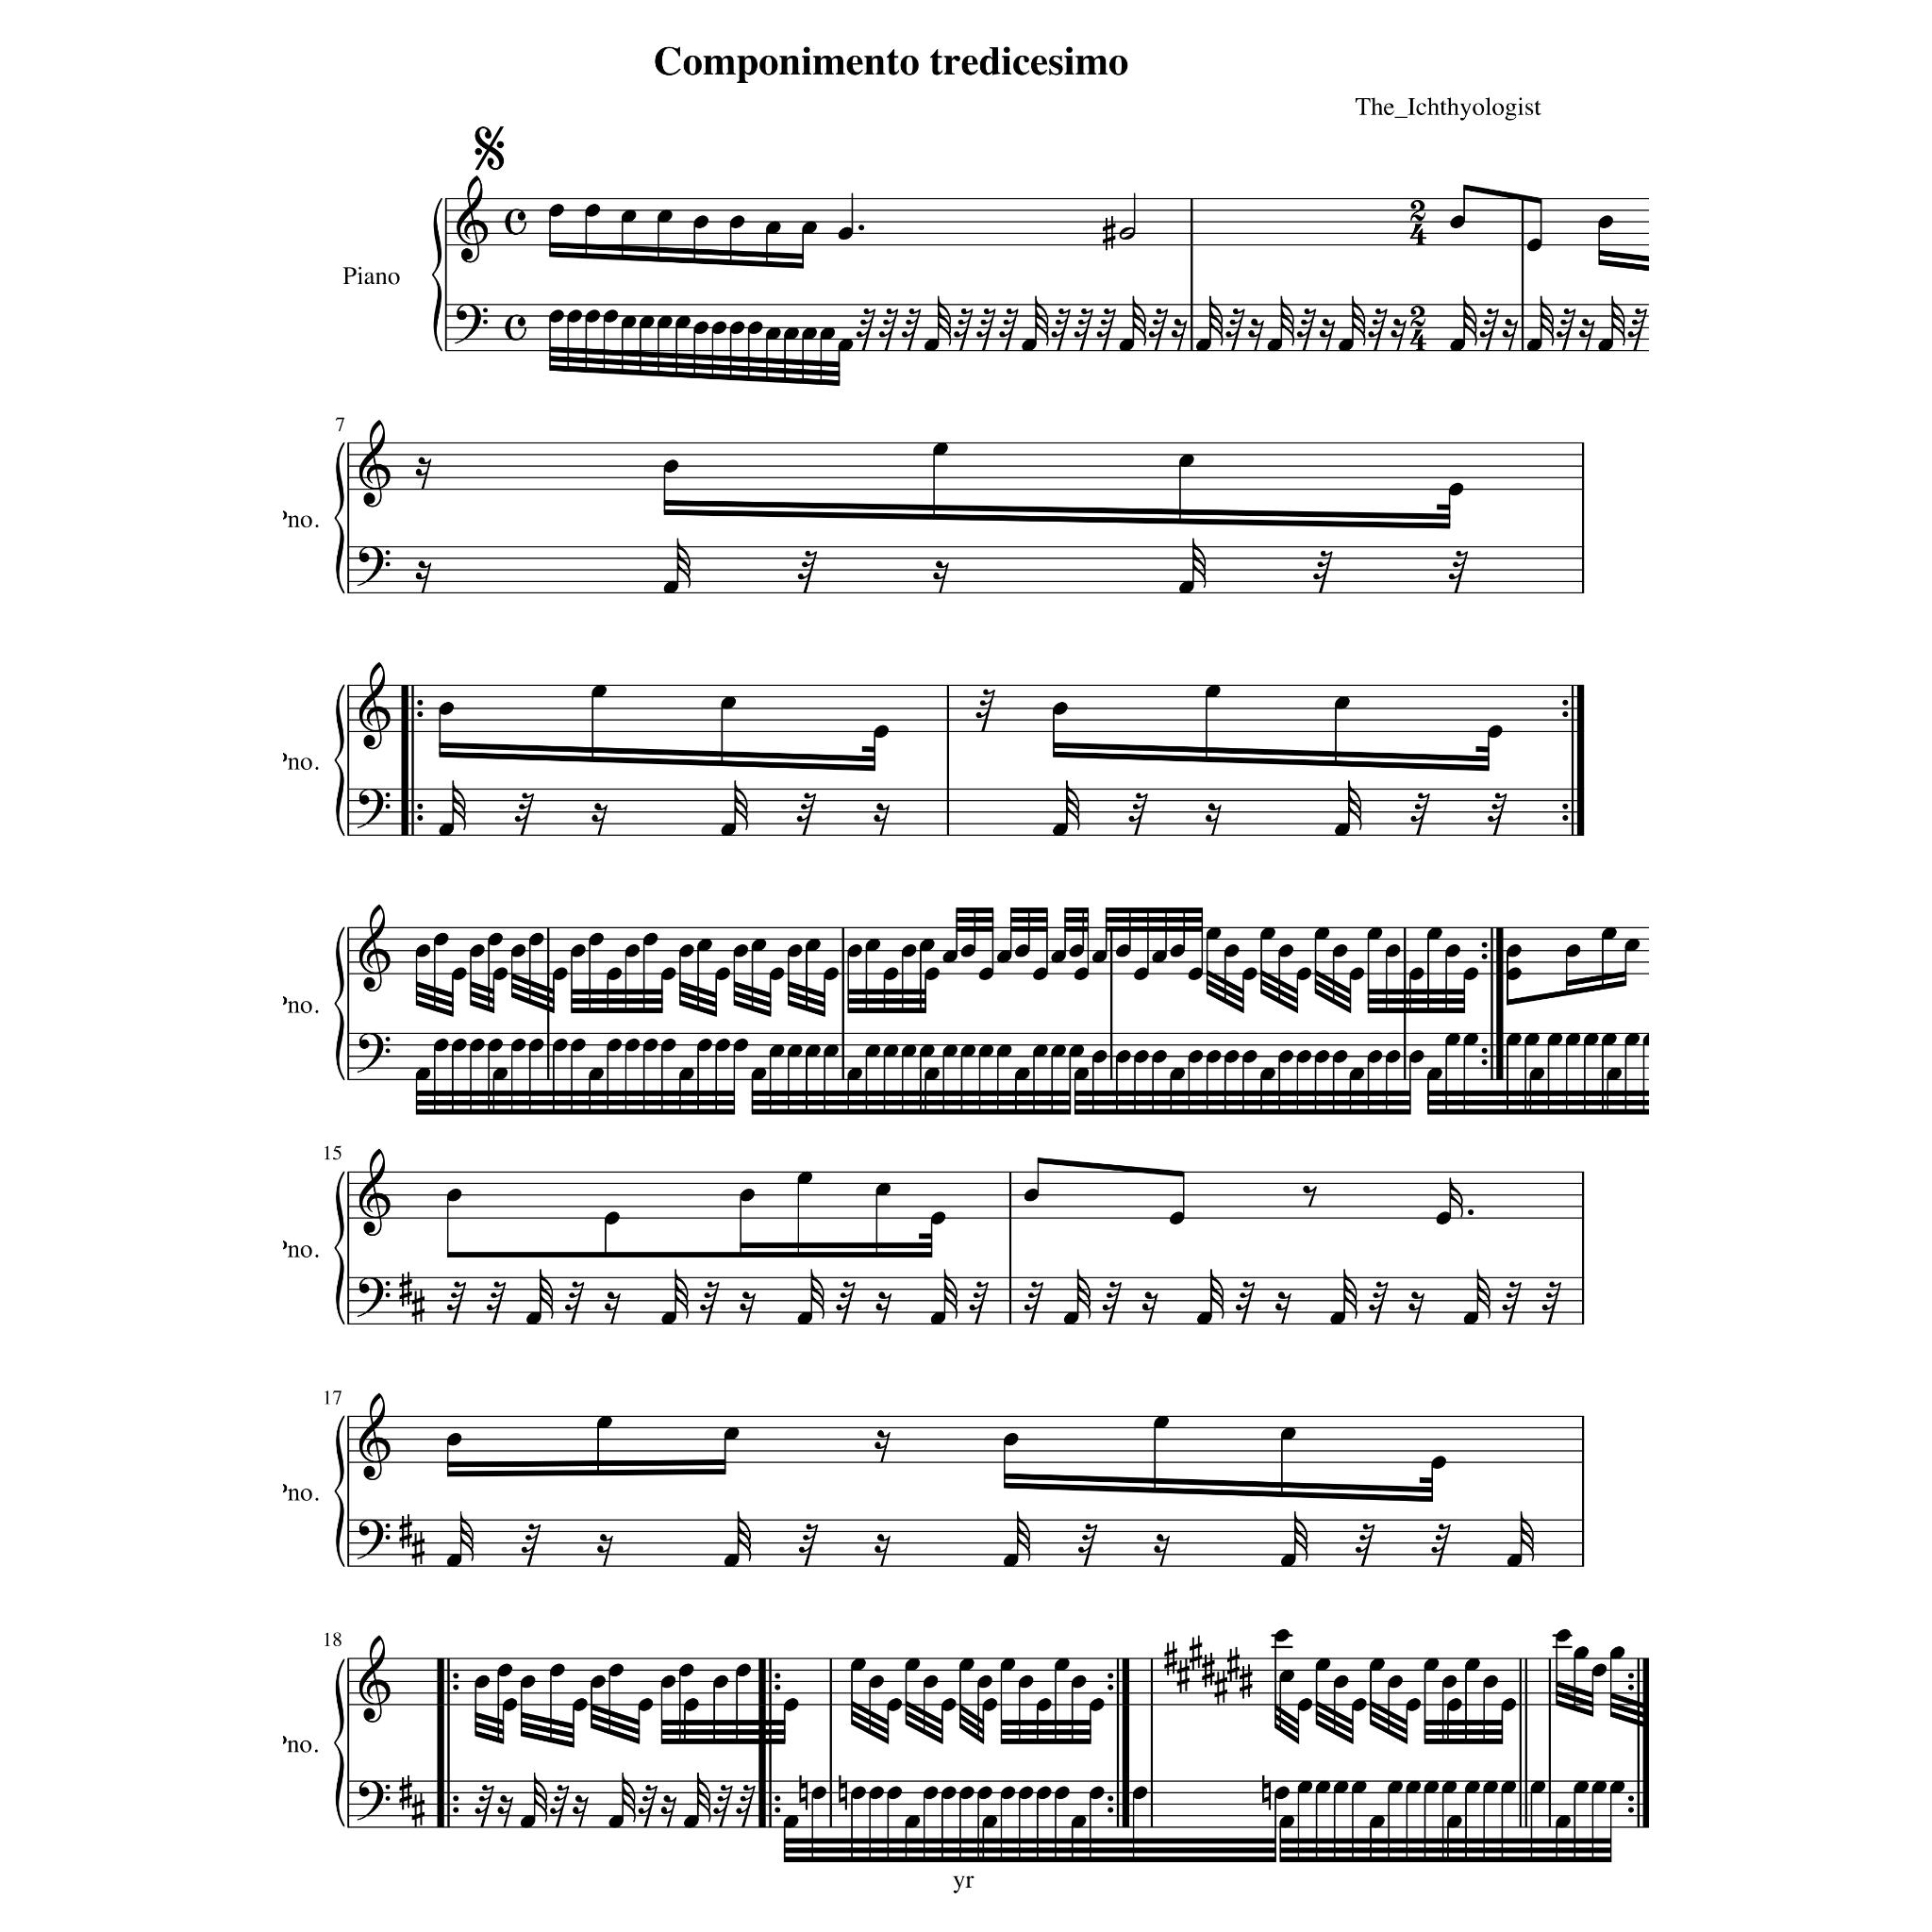brace: (333, 1660, 345, 1828), (333, 927, 345, 1081), (333, 1171, 345, 1325), (333, 442, 345, 594), (333, 685, 345, 837), (333, 1415, 345, 1568), (432, 198, 442, 352)
fClef: (453, 304, 488, 345), (357, 547, 391, 587), (357, 787, 391, 828), (357, 1033, 391, 1074), (357, 1277, 391, 1318), (357, 1520, 391, 1560), (357, 1780, 391, 1821)
flag16thUp: (1449, 1178, 1463, 1219)
gClef: (456, 175, 488, 264), (359, 419, 391, 508), (359, 662, 391, 750), (359, 904, 391, 993), (359, 1148, 391, 1237), (359, 1392, 391, 1481), (359, 1635, 391, 1723)
noteheadBlack: (1525, 338, 1543, 352), (1313, 1049, 1330, 1063), (1313, 927, 1330, 941), (1582, 1033, 1599, 1047), (587, 932, 605, 947), (432, 1039, 449, 1053), (432, 932, 449, 947), (901, 1044, 918, 1058), (929, 1311, 947, 1325), (929, 1212, 947, 1226), (801, 221, 817, 235), (766, 221, 782, 235), (924, 338, 939, 352), (1021, 338, 1037, 352), (837, 338, 853, 352), (584, 203, 600, 218), (548, 203, 564, 218), (676, 315, 692, 329), (621, 315, 637, 329), (639, 315, 655, 329), (656, 315, 672, 329), (1267, 338, 1283, 352), (1338, 338, 1353, 352), (1598, 338, 1614, 352), (1194, 338, 1210, 352), (1118, 338, 1134, 352), (932, 442, 948, 456), (1178, 580, 1194, 594), (1178, 453, 1194, 467), (663, 580, 679, 594), (1205, 685, 1221, 699), (1051, 823, 1067, 837), (1334, 823, 1350, 837), (439, 823, 455, 837), (591, 685, 607, 699), (720, 823, 736, 837), (1426, 927, 1442, 941), (1385, 1049, 1401, 1063), (1366, 1049, 1382, 1063), (1366, 927, 1382, 941), (1408, 1049, 1424, 1063), (1408, 968, 1424, 982), (1445, 1033, 1461, 1047), (1134, 968, 1150, 982), (1523, 1033, 1539, 1047), (1546, 1033, 1562, 1047), (1134, 1049, 1150, 1063), (1463, 1033, 1479, 1047), (1463, 968, 1479, 982), (1506, 968, 1522, 982), (1506, 1033, 1522, 1047), (1223, 1049, 1238, 1063), (1260, 927, 1276, 941), (1242, 1049, 1258, 1063), (1242, 968, 1258, 982), (1205, 1049, 1221, 1063), (1205, 927, 1221, 941), (1187, 1049, 1203, 1063), (1187, 968, 1203, 982), (1332, 1049, 1348, 1063), (1152, 950, 1168, 964), (1152, 1049, 1168, 1063), (1348, 968, 1364, 982), (1277, 1049, 1293, 1063), (1295, 1049, 1311, 1063), (1295, 968, 1311, 982), (1601, 1033, 1617, 1047), (1601, 927, 1617, 941), (1624, 1033, 1640, 1047), (642, 932, 658, 947), (642, 1039, 658, 1053), (660, 1039, 676, 1053), (660, 968, 676, 982), (625, 1039, 640, 1053), (607, 1039, 623, 1053), (607, 968, 623, 982), (768, 1044, 784, 1058), (768, 968, 784, 982), (787, 1044, 803, 1058), (715, 968, 731, 982), (697, 1039, 713, 1053), (732, 1039, 748, 1053), (570, 1039, 586, 1053), (715, 1039, 731, 1053), (451, 1039, 467, 1053), (451, 968, 467, 982), (469, 1039, 485, 1053), (552, 1039, 568, 1053), (552, 968, 568, 982), (527, 1039, 543, 1053), (527, 932, 543, 947), (492, 968, 508, 982), (487, 1039, 502, 1053), (487, 932, 502, 947), (510, 1039, 525, 1053), (961, 1044, 977, 1058), (978, 968, 994, 982), (978, 1044, 994, 1058), (1092, 950, 1108, 964), (924, 968, 939, 982), (1092, 1049, 1108, 1063), (941, 950, 957, 964), (941, 1044, 957, 1058), (1033, 1044, 1049, 1058), (1033, 968, 1049, 982), (1051, 950, 1067, 964), (1051, 1044, 1067, 1058), (1069, 1044, 1085, 1058), (1074, 968, 1090, 982), (996, 1044, 1012, 1058), (996, 950, 1012, 964), (805, 1044, 821, 1058), (823, 1044, 839, 1058), (823, 968, 839, 982), (918, 1044, 934, 1058), (1115, 1049, 1131, 1063), (883, 968, 899, 982), (883, 1044, 899, 1058), (865, 1044, 881, 1058), (1063, 1311, 1079, 1325), (1196, 1311, 1212, 1325), (1169, 1212, 1185, 1226), (1463, 1311, 1479, 1325), (1330, 1311, 1346, 1325), (1435, 1212, 1451, 1226), (525, 1311, 541, 1325), (662, 1311, 678, 1325), (603, 1212, 619, 1226), (796, 1171, 812, 1185), (796, 1311, 812, 1325), (1154, 1415, 1169, 1430), (1279, 1553, 1295, 1568), (1003, 1553, 1019, 1568), (446, 1553, 462, 1568), (596, 1415, 612, 1430), (724, 1553, 740, 1568), (977, 1785, 993, 1799), (959, 1785, 975, 1799), (1000, 1785, 1016, 1799), (886, 1785, 902, 1799), (869, 1785, 885, 1799), (939, 1785, 955, 1799), (922, 1785, 938, 1799), (1274, 1785, 1290, 1799), (1132, 1785, 1148, 1799), (1279, 1670, 1295, 1684), (1054, 1785, 1070, 1799), (1035, 1785, 1051, 1799), (1017, 1785, 1033, 1799), (1090, 1785, 1106, 1799), (550, 1663, 566, 1677), (609, 1663, 625, 1677), (497, 1663, 513, 1677), (810, 1785, 826, 1799), (849, 1785, 865, 1799), (678, 1663, 694, 1677), (734, 1663, 750, 1677), (1608, 1780, 1624, 1794), (1608, 1645, 1624, 1660), (1591, 1780, 1606, 1794), (1591, 1663, 1606, 1677), (1530, 1780, 1546, 1794), (1573, 1780, 1589, 1794), (1573, 1645, 1589, 1660), (1387, 1780, 1403, 1794), (1405, 1780, 1421, 1794), (1442, 1780, 1458, 1794), (1422, 1780, 1438, 1794), (1315, 1780, 1330, 1794), (1297, 1780, 1313, 1794), (1352, 1780, 1368, 1794), (1332, 1780, 1348, 1794), (1500, 1780, 1516, 1794), (1483, 1780, 1499, 1794), (1465, 1780, 1481, 1794), (602, 310, 619, 322), (1525, 239, 1543, 251), (587, 1069, 605, 1081), (901, 945, 918, 957), (1451, 338, 1465, 352), (1566, 1033, 1580, 1047), (1507, 1553, 1522, 1568), (801, 327, 817, 340), (784, 327, 800, 340), (819, 327, 835, 340), (729, 216, 745, 228), (729, 322, 745, 334), (747, 322, 763, 334), (766, 327, 782, 340), (837, 228, 853, 241), (566, 310, 582, 322), (584, 310, 600, 322), (548, 310, 564, 322), (694, 216, 709, 228), (694, 322, 709, 334), (711, 322, 727, 334), (621, 211, 637, 223), (656, 211, 672, 223), (1598, 216, 1614, 228), (1447, 483, 1463, 495), (663, 460, 679, 472), (1051, 702, 1067, 715), (1334, 697, 1350, 709), (1488, 725, 1504, 738), (439, 702, 455, 715), (720, 697, 736, 709), (1426, 1069, 1442, 1081), (1385, 945, 1401, 957), (1529, 1069, 1545, 1081), (1445, 945, 1461, 957), (1506, 945, 1522, 957), (1223, 945, 1238, 957), (1260, 1069, 1276, 1081), (1169, 1069, 1185, 1081), (1169, 945, 1185, 957), (1332, 945, 1348, 957), (1348, 1069, 1364, 1081), (1277, 945, 1293, 957), (1606, 1069, 1622, 1081), (1624, 939, 1640, 952), (679, 1069, 695, 1081), (679, 945, 695, 957), (625, 945, 640, 957), (750, 1069, 766, 1081), (750, 939, 766, 952), (787, 945, 803, 957), (697, 939, 713, 952), (732, 945, 748, 957), (469, 945, 485, 957), (414, 1069, 430, 1081), (414, 945, 430, 957), (570, 945, 586, 957), (492, 1069, 508, 1081), (510, 945, 525, 957), (961, 945, 977, 957), (924, 1069, 939, 1081), (1069, 945, 1085, 957), (1074, 1069, 1090, 1081), (1014, 945, 1030, 957), (1014, 1069, 1030, 1081), (847, 1069, 863, 1081), (847, 945, 863, 957), (805, 939, 821, 952), (918, 939, 934, 952), (865, 939, 881, 952), (1115, 945, 1131, 957), (1023, 1189, 1039, 1201), (446, 1189, 462, 1201), (740, 1189, 755, 1201), (1279, 1428, 1295, 1440), (1003, 1433, 1019, 1445), (1431, 1456, 1447, 1468), (446, 1433, 462, 1445), (724, 1428, 740, 1440), (977, 1675, 993, 1688), (959, 1658, 975, 1670), (1000, 1658, 1016, 1670), (982, 1815, 998, 1828), (982, 1698, 998, 1711), (886, 1698, 902, 1711), (904, 1658, 920, 1670), (869, 1675, 885, 1688), (939, 1698, 955, 1711), (1017, 1675, 1033, 1688), (922, 1675, 938, 1688), (904, 1815, 920, 1828), (1274, 1629, 1290, 1642), (1279, 1815, 1295, 1828), (1054, 1658, 1070, 1670), (1035, 1698, 1051, 1711), (1090, 1698, 1106, 1711), (1070, 1815, 1086, 1828), (1070, 1675, 1086, 1688), (571, 1698, 587, 1711), (637, 1698, 653, 1711), (609, 1815, 625, 1828), (474, 1675, 490, 1688), (520, 1815, 536, 1828), (520, 1675, 536, 1688), (501, 1698, 517, 1711), (782, 1815, 798, 1828), (782, 1698, 798, 1711), (849, 1658, 865, 1670), (683, 1815, 699, 1828), (683, 1698, 699, 1711), (660, 1675, 676, 1688), (713, 1675, 729, 1688), (1555, 1815, 1571, 1828), (1555, 1629, 1571, 1642), (1387, 1675, 1403, 1688), (1405, 1698, 1421, 1711), (1368, 1815, 1384, 1828), (1368, 1658, 1384, 1670), (1442, 1675, 1458, 1688), (1422, 1658, 1438, 1670), (1315, 1658, 1330, 1670), (1297, 1698, 1313, 1711), (1352, 1698, 1368, 1711), (1332, 1675, 1348, 1688), (1500, 1698, 1516, 1711), (1465, 1658, 1481, 1670), (1445, 1815, 1461, 1828), (1445, 1698, 1461, 1711), (1483, 1675, 1499, 1688), (1451, 216, 1465, 228), (874, 725, 888, 738), (1566, 945, 1580, 957), (876, 1184, 890, 1196), (591, 1675, 605, 1688)
noteheadHalf: (1118, 228, 1136, 241)
rest16th: (1389, 318, 1407, 352), (1247, 318, 1265, 352), (1318, 318, 1336, 352), (1578, 318, 1596, 352), (591, 803, 609, 837), (1141, 1292, 1159, 1325), (1274, 1292, 1292, 1325), (603, 1292, 621, 1325), (738, 1292, 755, 1325), (571, 1794, 589, 1828), (497, 1794, 515, 1828), (660, 1794, 678, 1828), (1154, 1534, 1171, 1566), (596, 1534, 614, 1566), (1502, 318, 1518, 352), (1171, 318, 1187, 352), (932, 561, 948, 594), (416, 456, 432, 490), (416, 561, 432, 594), (1205, 803, 1221, 837), (874, 803, 890, 837), (1408, 1292, 1424, 1325), (876, 1292, 892, 1325), (874, 1431, 890, 1463), (874, 1534, 890, 1566)
rest8th: (1302, 1185, 1316, 1208)
